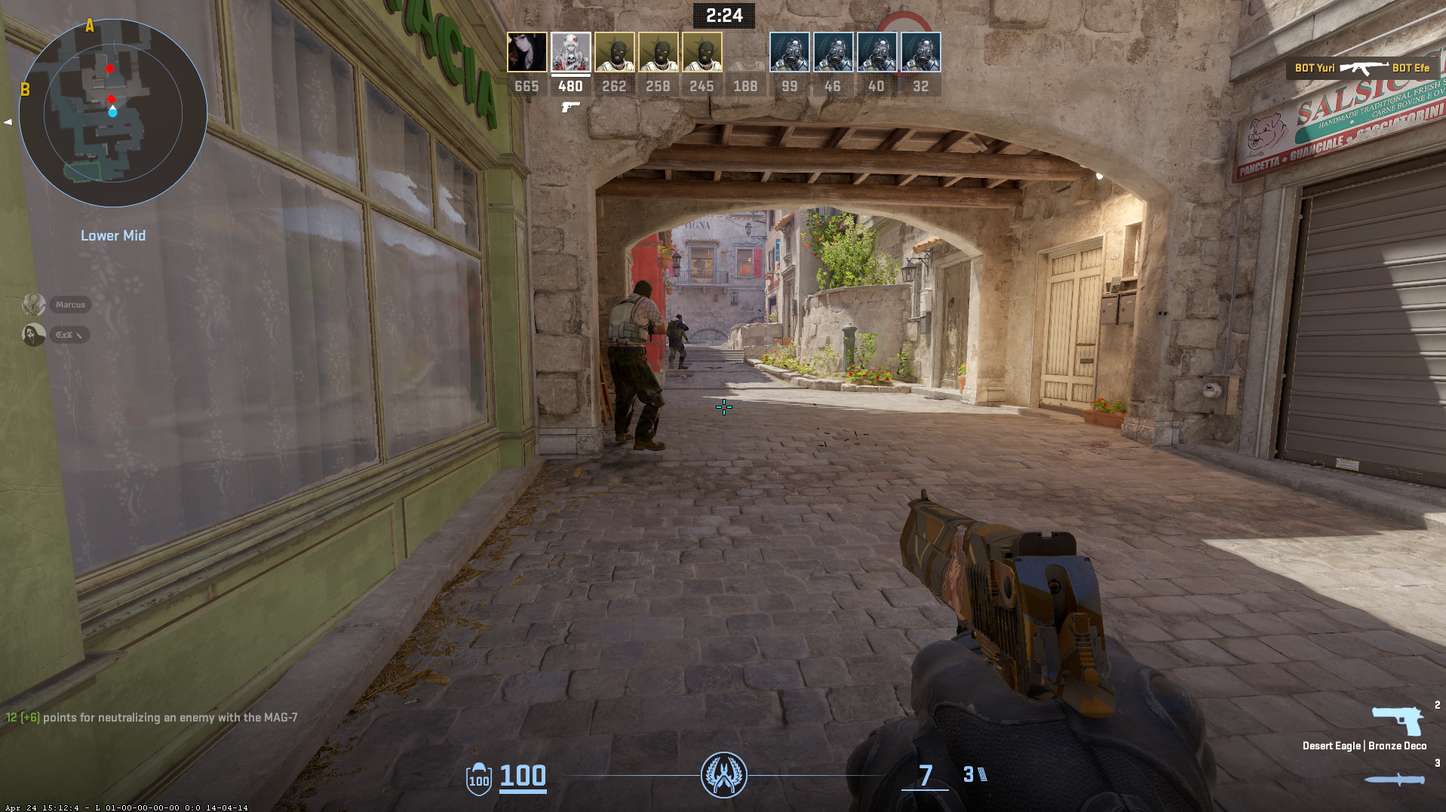CT: (667, 314, 688, 370)
T: (608, 281, 667, 451)
